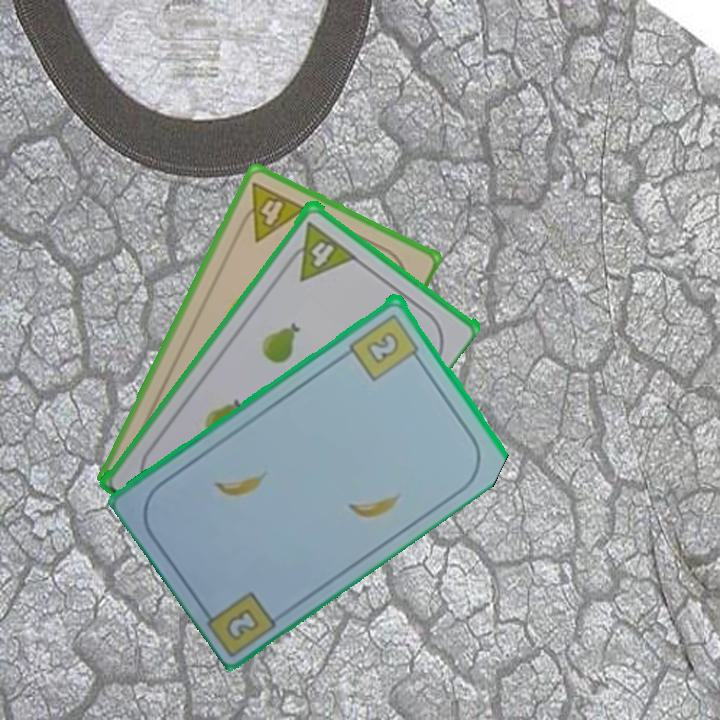2b: (346, 309, 424, 383), (222, 604, 263, 643)
4p: (233, 178, 310, 245), (281, 217, 358, 283)
